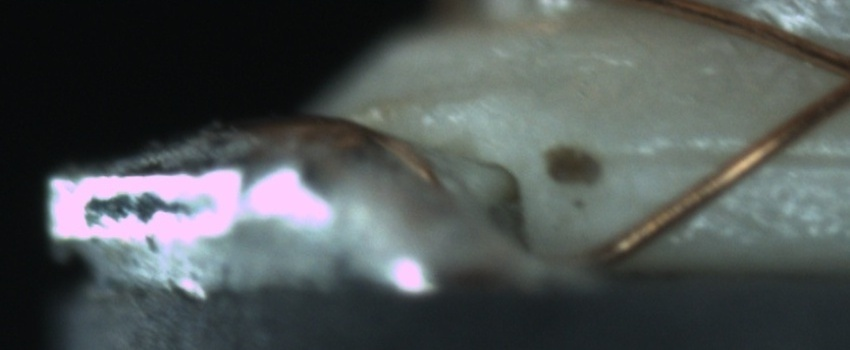DL: (609, 121, 844, 193)
